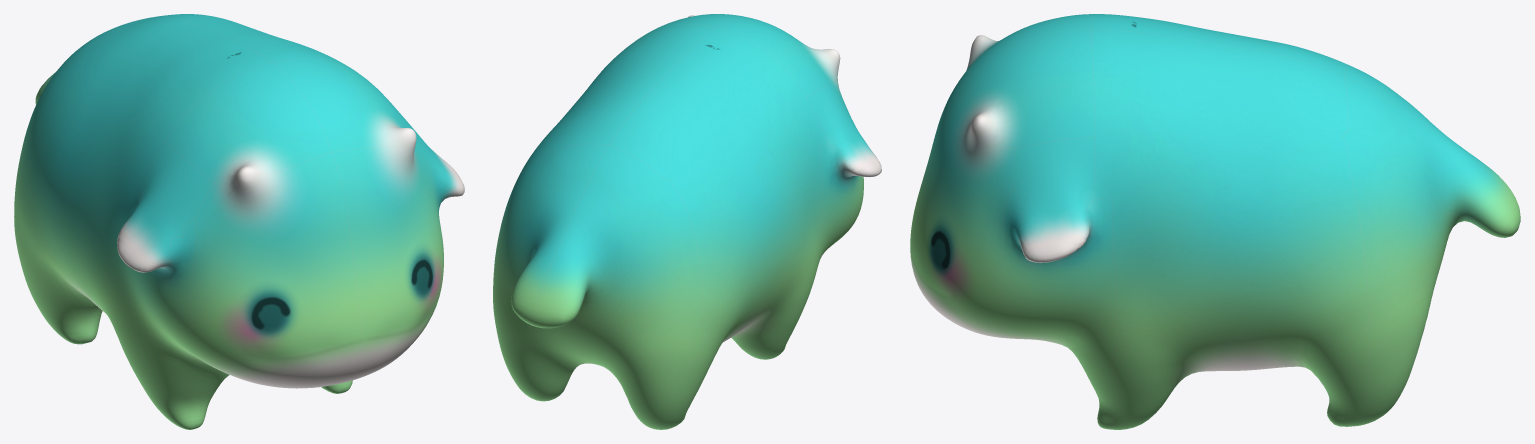
File: Tasko.glb
The picture shows the model from 3 angles, left to right: view 1: azimuth 30°, elevation 25°; view 2: azimuth 150°, elevation 25°; view 3: azimuth 270°, elevation 25°; orthographic projection. The views are drawn at different scales.
Visible parts, largest first — view 1: Body; view 2: Body; view 3: Body.
Boxes of the visible parts, bbox=[...] form: Body: bbox=[14, 14, 464, 429]; Body: bbox=[493, 14, 881, 429]; Body: bbox=[910, 14, 1520, 429].
Bounding box in the file's own units: 0.5389 × 0.5424 × 0.8304.
Materials: 1 (1 with a texture image).
